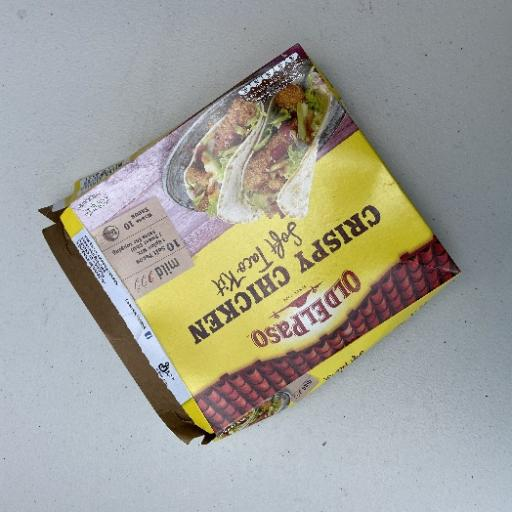Cardboard: (38, 42, 463, 445)
